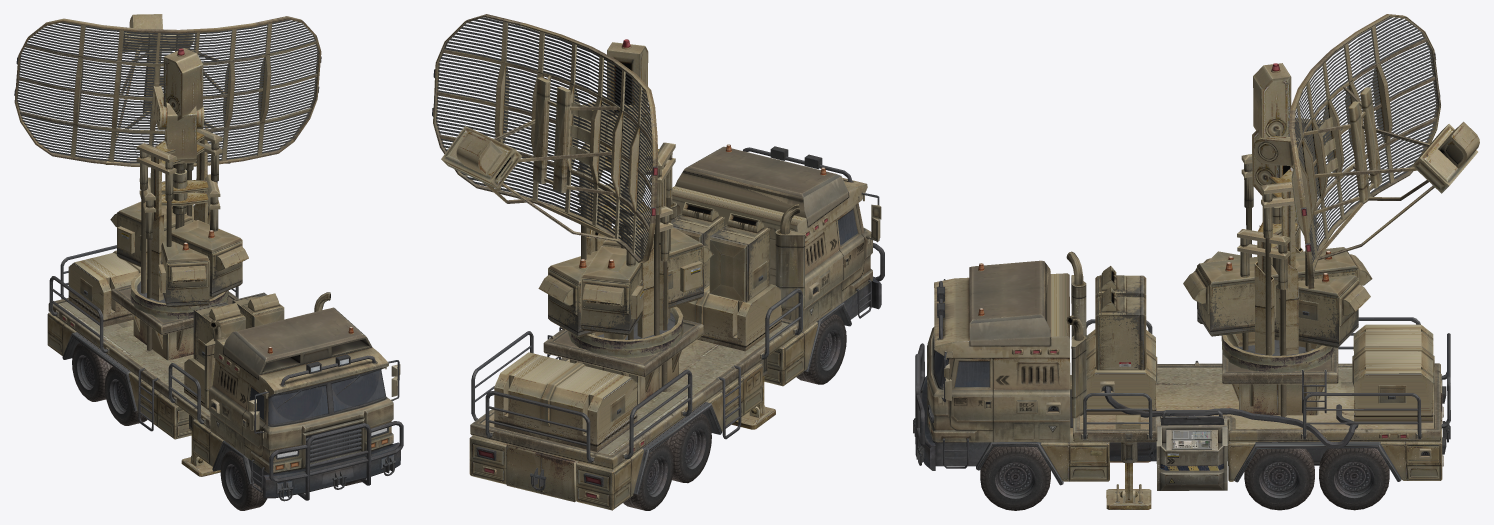
File: renault-trm-radar.glb
The picture shows the model from 3 angles, left to right: view 1: azimuth 30°, elevation 25°; view 2: azimuth 150°, elevation 25°; view 3: azimuth 270°, elevation 25°; orthographic projection. The views are drawn at different scales.
Visible parts, largest first — view 1: Object_7, Object_4, Object_5, Object_2, Object_3, Object_6; view 2: Object_7, Object_4, Object_5, Object_2, Object_6; view 3: Object_7, Object_4, Object_2, Object_5, Object_3, Object_9.
Part boxes in pixels (bbox=[...]): Object_7: bbox=[14, 14, 353, 484]; Object_4: bbox=[58, 288, 403, 501]; Object_5: bbox=[17, 19, 318, 163]; Object_2: bbox=[72, 343, 366, 510]; Object_3: bbox=[249, 370, 385, 423]; Object_6: bbox=[62, 48, 387, 469]; Object_7: bbox=[432, 14, 851, 510]; Object_4: bbox=[476, 146, 884, 499]; Object_5: bbox=[436, 17, 652, 259]; Object_2: bbox=[623, 314, 846, 510]; Object_6: bbox=[433, 39, 827, 498]; Object_7: bbox=[976, 14, 1479, 509]; Object_4: bbox=[913, 260, 1450, 470]; Object_2: bbox=[980, 446, 1389, 510]; Object_5: bbox=[1294, 17, 1437, 263]; Object_3: bbox=[934, 351, 989, 386]; Object_9: bbox=[1171, 430, 1211, 449].
Bounding box in the file's own units: 595 × 855 × 1033.
Materials: 8 (7 with a texture image).
